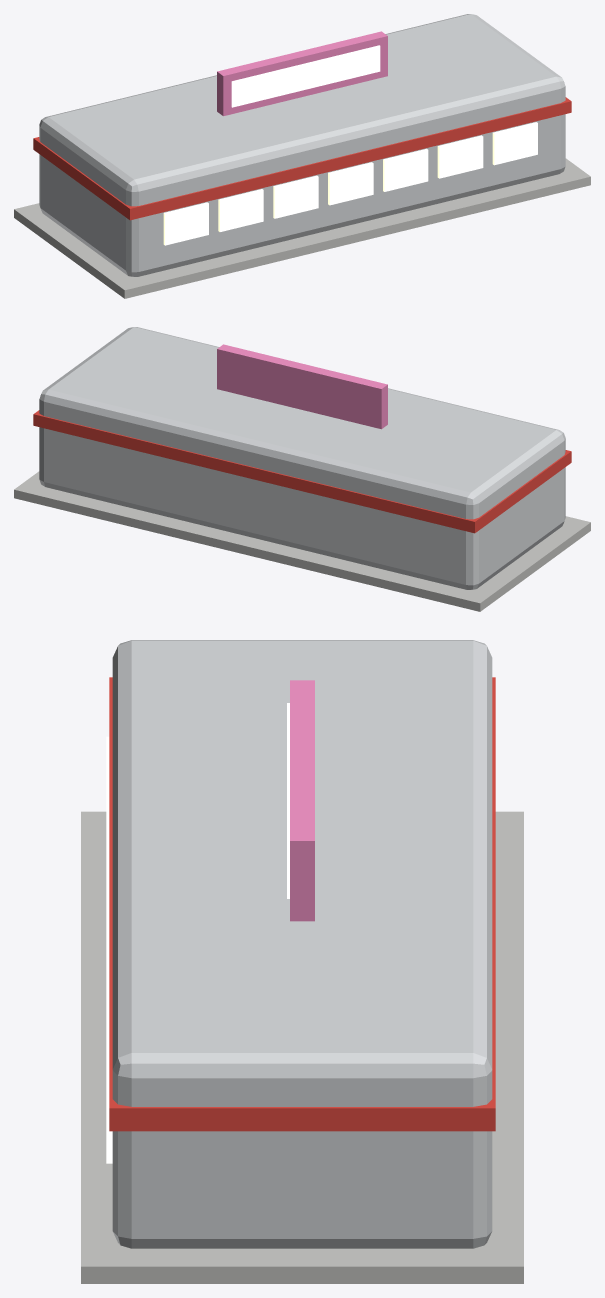
The model's file is diner.glb.
The picture shows the model from 3 angles, top to bottom: view 1: azimuth 30°, elevation 25°; view 2: azimuth 150°, elevation 25°; view 3: azimuth 270°, elevation 25°; orthographic projection. The views are drawn at different scales.
Visible parts, largest first — view 1: Diner; view 2: Diner; view 3: Diner.
Part boxes in pixels (x1,y1,x2,y2): Diner: (14, 14, 590, 298); Diner: (14, 327, 590, 611); Diner: (81, 640, 523, 1283).
Bounding box in the file's own units: 17 × 5.15 × 7.
